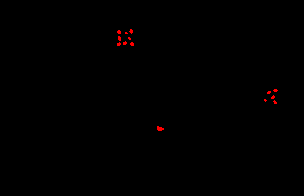Target: (157, 126, 164, 131), (129, 29, 133, 34), (117, 30, 121, 34), (123, 41, 127, 45), (117, 42, 121, 46), (130, 42, 134, 46), (271, 95, 275, 99), (273, 100, 277, 104), (118, 36, 121, 41), (273, 89, 278, 92), (267, 91, 271, 94), (128, 37, 131, 40), (264, 99, 267, 102), (125, 32, 128, 34)
